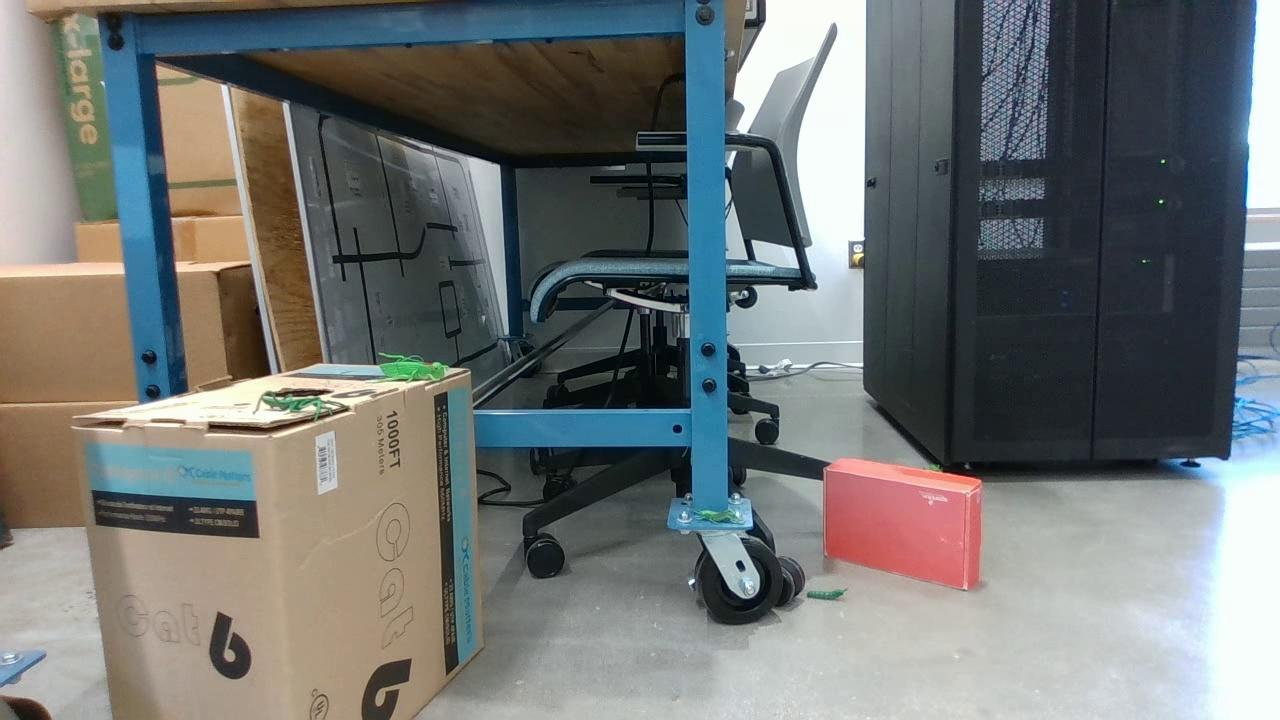grasshopper: (379, 356, 448, 387), (925, 464, 941, 475)
